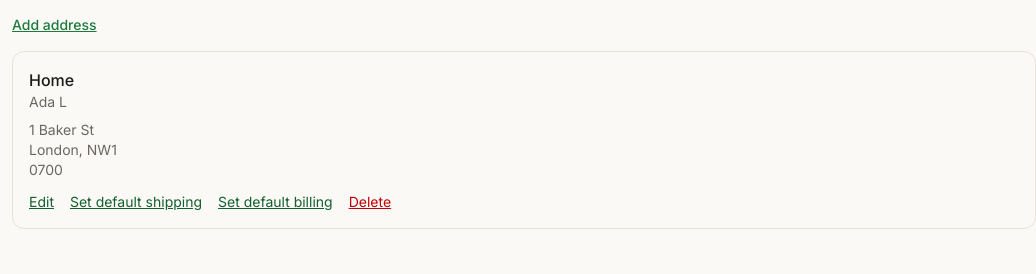
Test: AddressBook › shows an inline error on a non-400 delete failure and keeps the list unchanged
Click the button "Delete". click: (370,202)
box: [349, 192, 391, 212]
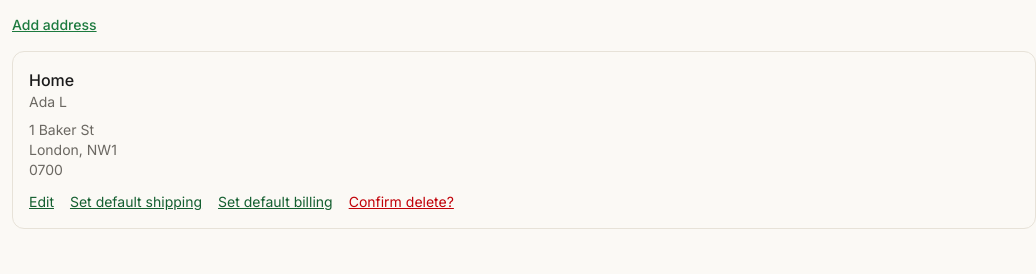
Click the button "Confirm delete?". click: (401,202)
box: [349, 192, 454, 212]
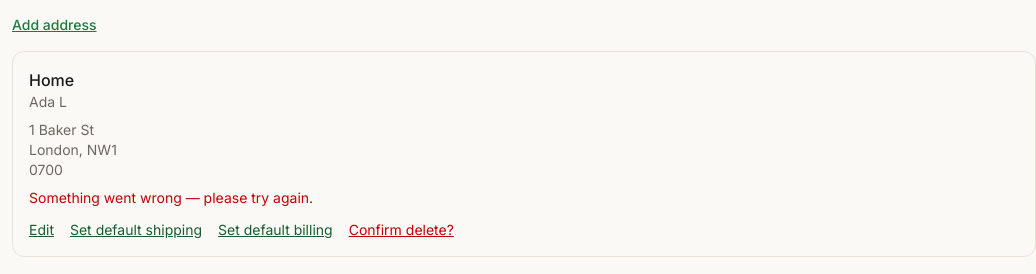
Expected: the text "Home" is shown, [29, 68, 74, 92]
Result: the message "Something went wrong — please try again." is shown at [29, 189, 313, 206]
